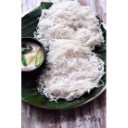idiyappam: (43, 40, 103, 98), (38, 3, 103, 44)
